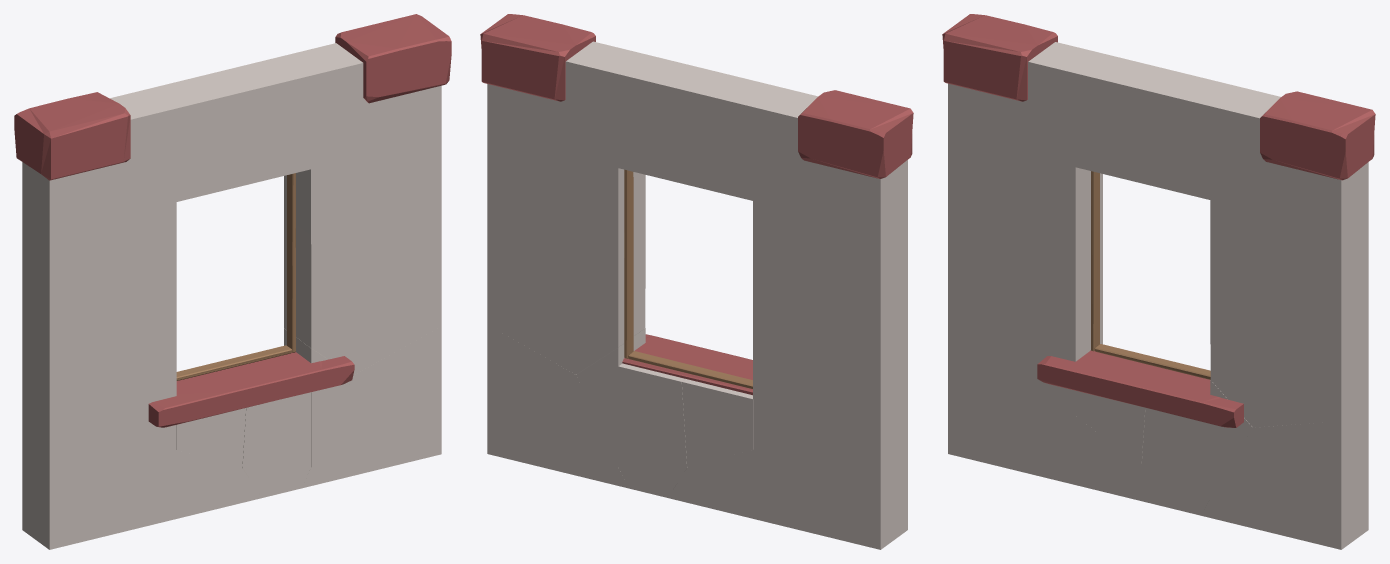
File: PKF_PK_Wall_Window_Big_v2.fbx
3 views of the same model, side by side, from view 1: azimuth 30°, elevation 25°; view 2: azimuth 150°, elevation 25°; view 3: azimuth 330°, elevation 25° (orthographic).
Parts seen in each view (by area): view 1: PK_Wall_Window_Big_Chunk_06, PK_Wall_Window_Big_Chunk_07, PK_Wall_Window_Big_Chunk_10, PK_Wall_Window_Big_Chunk_11, PK_Wall_Window_Big_Chunk_08, PK_Wall_Window_Big_Chunk_09, PK_Wall_Window_Big_Chunk_00, PK_Wall_Window_Big_Chunk_02, PK_Wall_Window_Big_Chunk_01, PK_Wall_Window_Big_Chunk_03, PK_Wall_Window_Big_Chunk_05, PK_Wall_Window_Big_Chunk_04 (+2 smaller); view 2: PK_Wall_Window_Big_Chunk_06, PK_Wall_Window_Big_Chunk_07, PK_Wall_Window_Big_Chunk_10, PK_Wall_Window_Big_Chunk_11, PK_Wall_Window_Big_Chunk_08, PK_Wall_Window_Big_Chunk_09, PK_Wall_Window_Big_Chunk_00, PK_Wall_Window_Big_Chunk_02, PK_Wall_Window_Big_Chunk_01, PK_Wall_Window_Big_Chunk_03, PK_Wall_Window_Big_Chunk_05, PK_Wall_Window_Big_Chunk_04 (+2 smaller); view 3: PK_Wall_Window_Big_Chunk_06, PK_Wall_Window_Big_Chunk_07, PK_Wall_Window_Big_Chunk_10, PK_Wall_Window_Big_Chunk_08, PK_Wall_Window_Big_Chunk_02, PK_Wall_Window_Big_Chunk_11, PK_Wall_Window_Big_Chunk_09, PK_Wall_Window_Big_Chunk_00, PK_Wall_Window_Big_Chunk_01, PK_Wall_Window_Big_Chunk_03, PK_Wall_Window_Big_Chunk_05, PK_Wall_Window_Big_Chunk_04 (+2 smaller).
Boxes of the visible parts, <box> form: PK_Wall_Window_Big_Chunk_06: <box>22,248,176,504</box>; PK_Wall_Window_Big_Chunk_07: <box>284,193,441,375</box>; PK_Wall_Window_Big_Chunk_10: <box>303,14,451,208</box>; PK_Wall_Window_Big_Chunk_11: <box>14,92,149,267</box>; PK_Wall_Window_Big_Chunk_08: <box>113,68,258,273</box>; PK_Wall_Window_Big_Chunk_09: <box>213,51,362,235</box>; PK_Wall_Window_Big_Chunk_00: <box>22,436,261,549</box>; PK_Wall_Window_Big_Chunk_02: <box>301,326,441,488</box>; PK_Wall_Window_Big_Chunk_01: <box>233,352,320,497</box>; PK_Wall_Window_Big_Chunk_03: <box>176,367,257,467</box>; PK_Wall_Window_Big_Chunk_05: <box>127,328,186,449</box>; PK_Wall_Window_Big_Chunk_04: <box>284,329,352,466</box>; PK_Wall_Window_Big_Chunk_06: <box>753,247,907,504</box>; PK_Wall_Window_Big_Chunk_07: <box>487,192,645,374</box>; PK_Wall_Window_Big_Chunk_10: <box>480,14,626,207</box>; PK_Wall_Window_Big_Chunk_11: <box>780,90,913,266</box>; PK_Wall_Window_Big_Chunk_08: <box>670,67,816,273</box>; PK_Wall_Window_Big_Chunk_09: <box>567,50,715,234</box>; PK_Wall_Window_Big_Chunk_00: <box>667,435,907,549</box>; PK_Wall_Window_Big_Chunk_02: <box>487,325,627,488</box>; PK_Wall_Window_Big_Chunk_01: <box>618,336,717,497</box>; PK_Wall_Window_Big_Chunk_03: <box>682,351,753,467</box>; PK_Wall_Window_Big_Chunk_05: <box>753,327,802,449</box>; PK_Wall_Window_Big_Chunk_04: <box>576,328,654,466</box>; PK_Wall_Window_Big_Chunk_06: <box>948,170,1102,408</box>; PK_Wall_Window_Big_Chunk_07: <box>1210,249,1368,427</box>; PK_Wall_Window_Big_Chunk_10: <box>1229,91,1375,303</box>; PK_Wall_Window_Big_Chunk_08: <box>1012,47,1185,239</box>; PK_Wall_Window_Big_Chunk_02: <box>1201,401,1368,549</box>; PK_Wall_Window_Big_Chunk_11: <box>942,14,1075,188</box>; PK_Wall_Window_Big_Chunk_09: <box>1112,74,1261,266</box>; PK_Wall_Window_Big_Chunk_00: <box>948,377,1160,505</box>; PK_Wall_Window_Big_Chunk_01: <box>1136,368,1210,515</box>; PK_Wall_Window_Big_Chunk_03: <box>1065,350,1161,466</box>; PK_Wall_Window_Big_Chunk_05: <box>1026,274,1102,415</box>; PK_Wall_Window_Big_Chunk_04: <box>1200,380,1252,498</box>.
Bounding box in the file's own units: 206 × 204 × 35.04.
